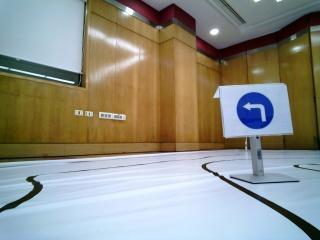left: (226, 87, 290, 137)
